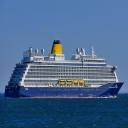cruises: (5, 39, 127, 101)
